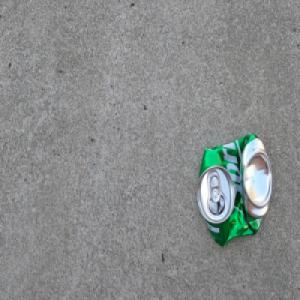SodaCan: (195, 131, 273, 248)
